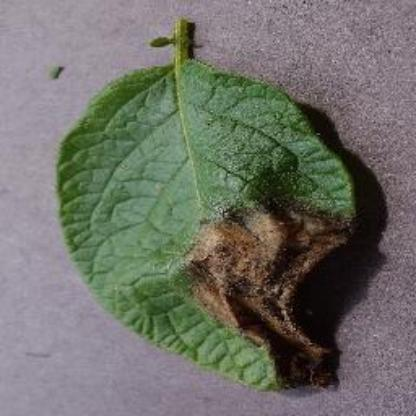Late-Blight: (41, 10, 379, 392)
